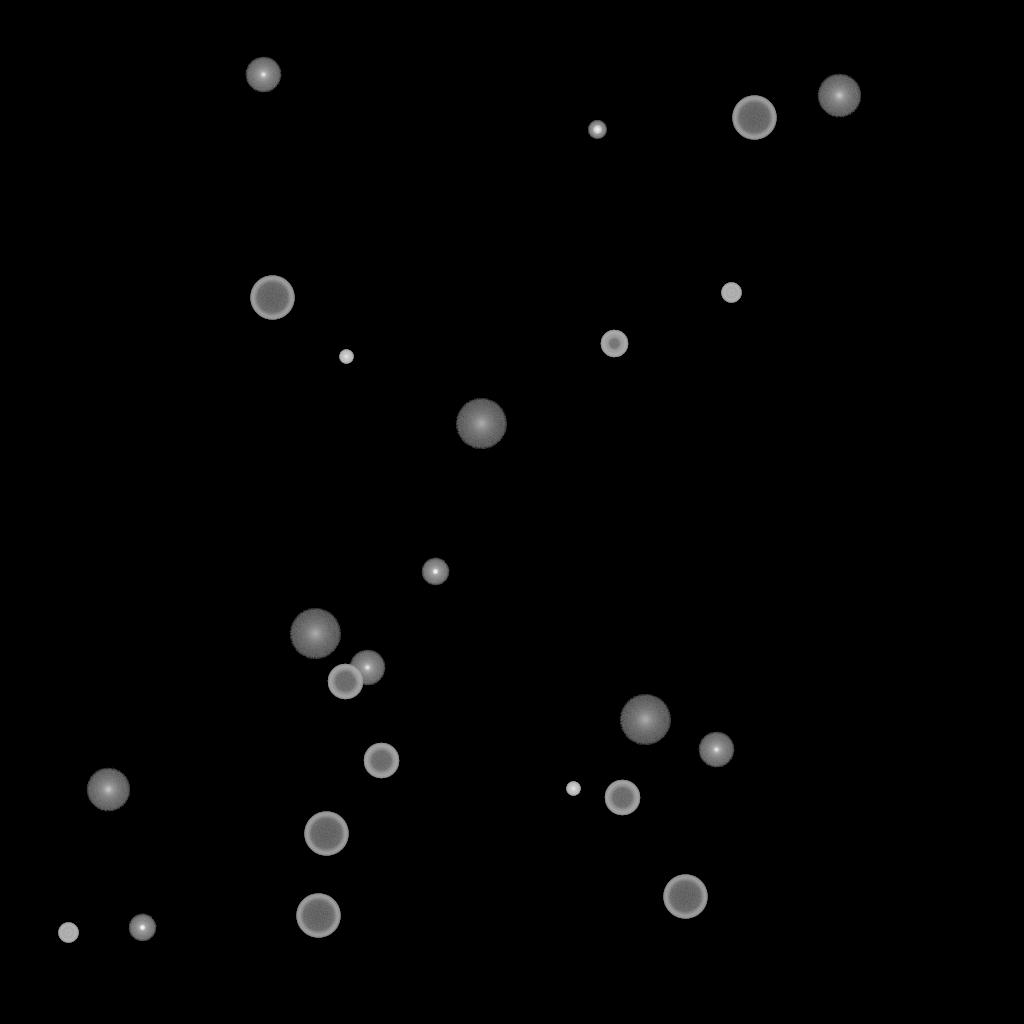depth:-10: (128, 914, 156, 942), (421, 558, 449, 586)
depth:-20: (588, 121, 606, 139)
depth:-30: (339, 350, 353, 364), (566, 782, 580, 796)
depth:-40: (58, 923, 78, 943), (721, 283, 741, 303)
depth:-50: (600, 330, 628, 358)
depth:-60: (604, 780, 640, 816), (363, 743, 399, 779), (327, 664, 363, 700)
depth:-70: (296, 894, 340, 938), (250, 276, 294, 320), (732, 96, 776, 140), (663, 875, 707, 919), (304, 812, 348, 856)
depth:0: (245, 57, 281, 93), (349, 650, 385, 686), (698, 732, 734, 768)
depth:10: (817, 74, 861, 118), (86, 768, 130, 812)
depth:20: (619, 695, 671, 745), (289, 609, 341, 659), (455, 399, 507, 449)
